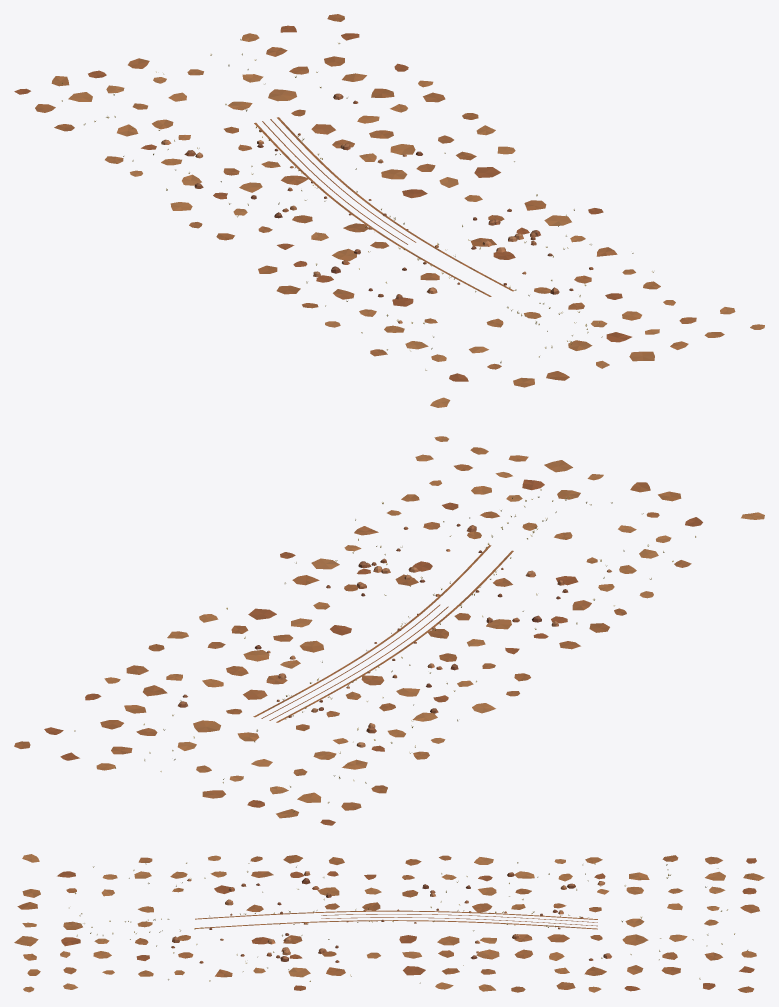
File: ground.glb
The picture shows the model from 3 angles, top to bottom: view 1: azimuth 30°, elevation 25°; view 2: azimuth 150°, elevation 25°; view 3: azimuth 270°, elevation 25°; orthographic projection. The views are drawn at different scales.
Parts seen in each view (by area): view 1: ground; view 2: ground; view 3: ground.
Part boxes in pixels (left/top/right/bottom): ground: left=14, top=14, right=764, bottom=407; ground: left=14, top=436, right=764, bottom=825; ground: left=14, top=854, right=764, bottom=992.
Bounding box in the file's own units: 52.19 × 0.8458 × 119.
